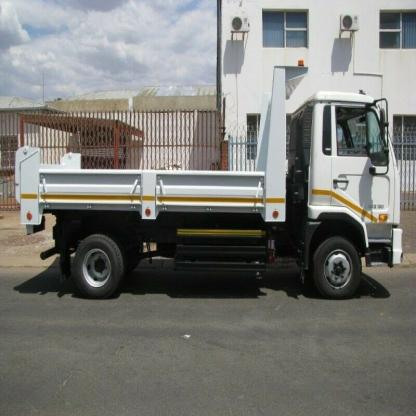dump_truck: (16, 66, 410, 340)
